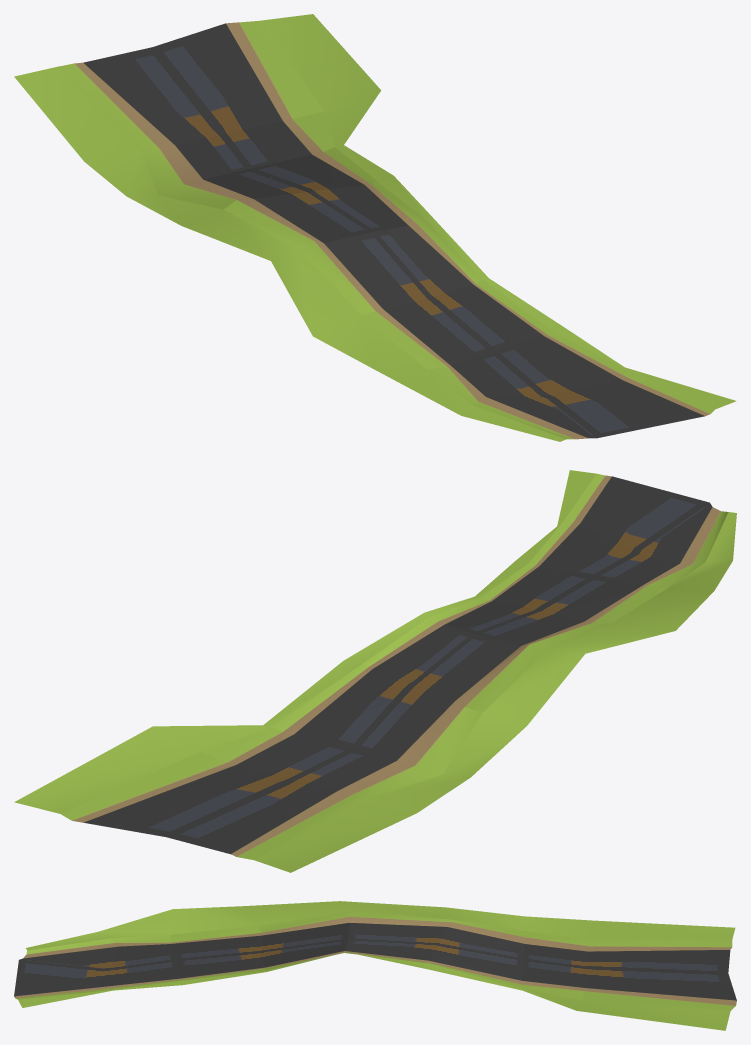
Rendered from road_2 (1).fbx.
3 views of the same model, one above another, from view 1: azimuth 30°, elevation 25°; view 2: azimuth 150°, elevation 25°; view 3: azimuth 270°, elevation 25° (orthographic). The views are drawn at different scales.
Visible parts, largest first — view 1: road_2 (1); view 2: road_2 (1); view 3: road_2 (1).
Boxes of the visible parts, <box> form: road_2 (1): <box>14,14,736,441</box>; road_2 (1): <box>14,470,736,872</box>; road_2 (1): <box>14,901,736,1030</box>.
Size of the model in its own units: 42.34 by 5.84 by 110.
